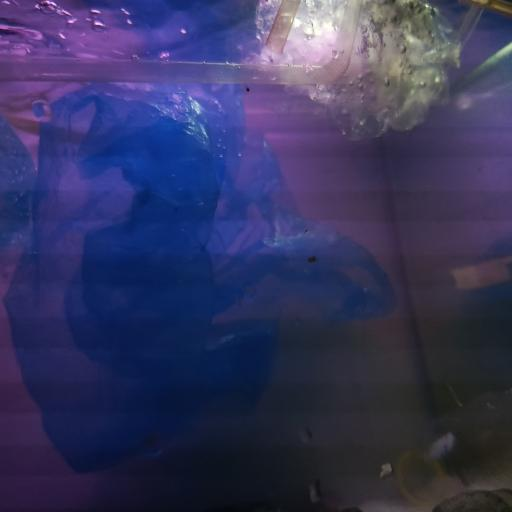plastic_bag: (0, 78, 397, 474), (252, 0, 458, 139)
plastic_bottle: (392, 393, 512, 504)
plastic_straw: (0, 0, 362, 86), (452, 0, 490, 53), (265, 0, 301, 54)
